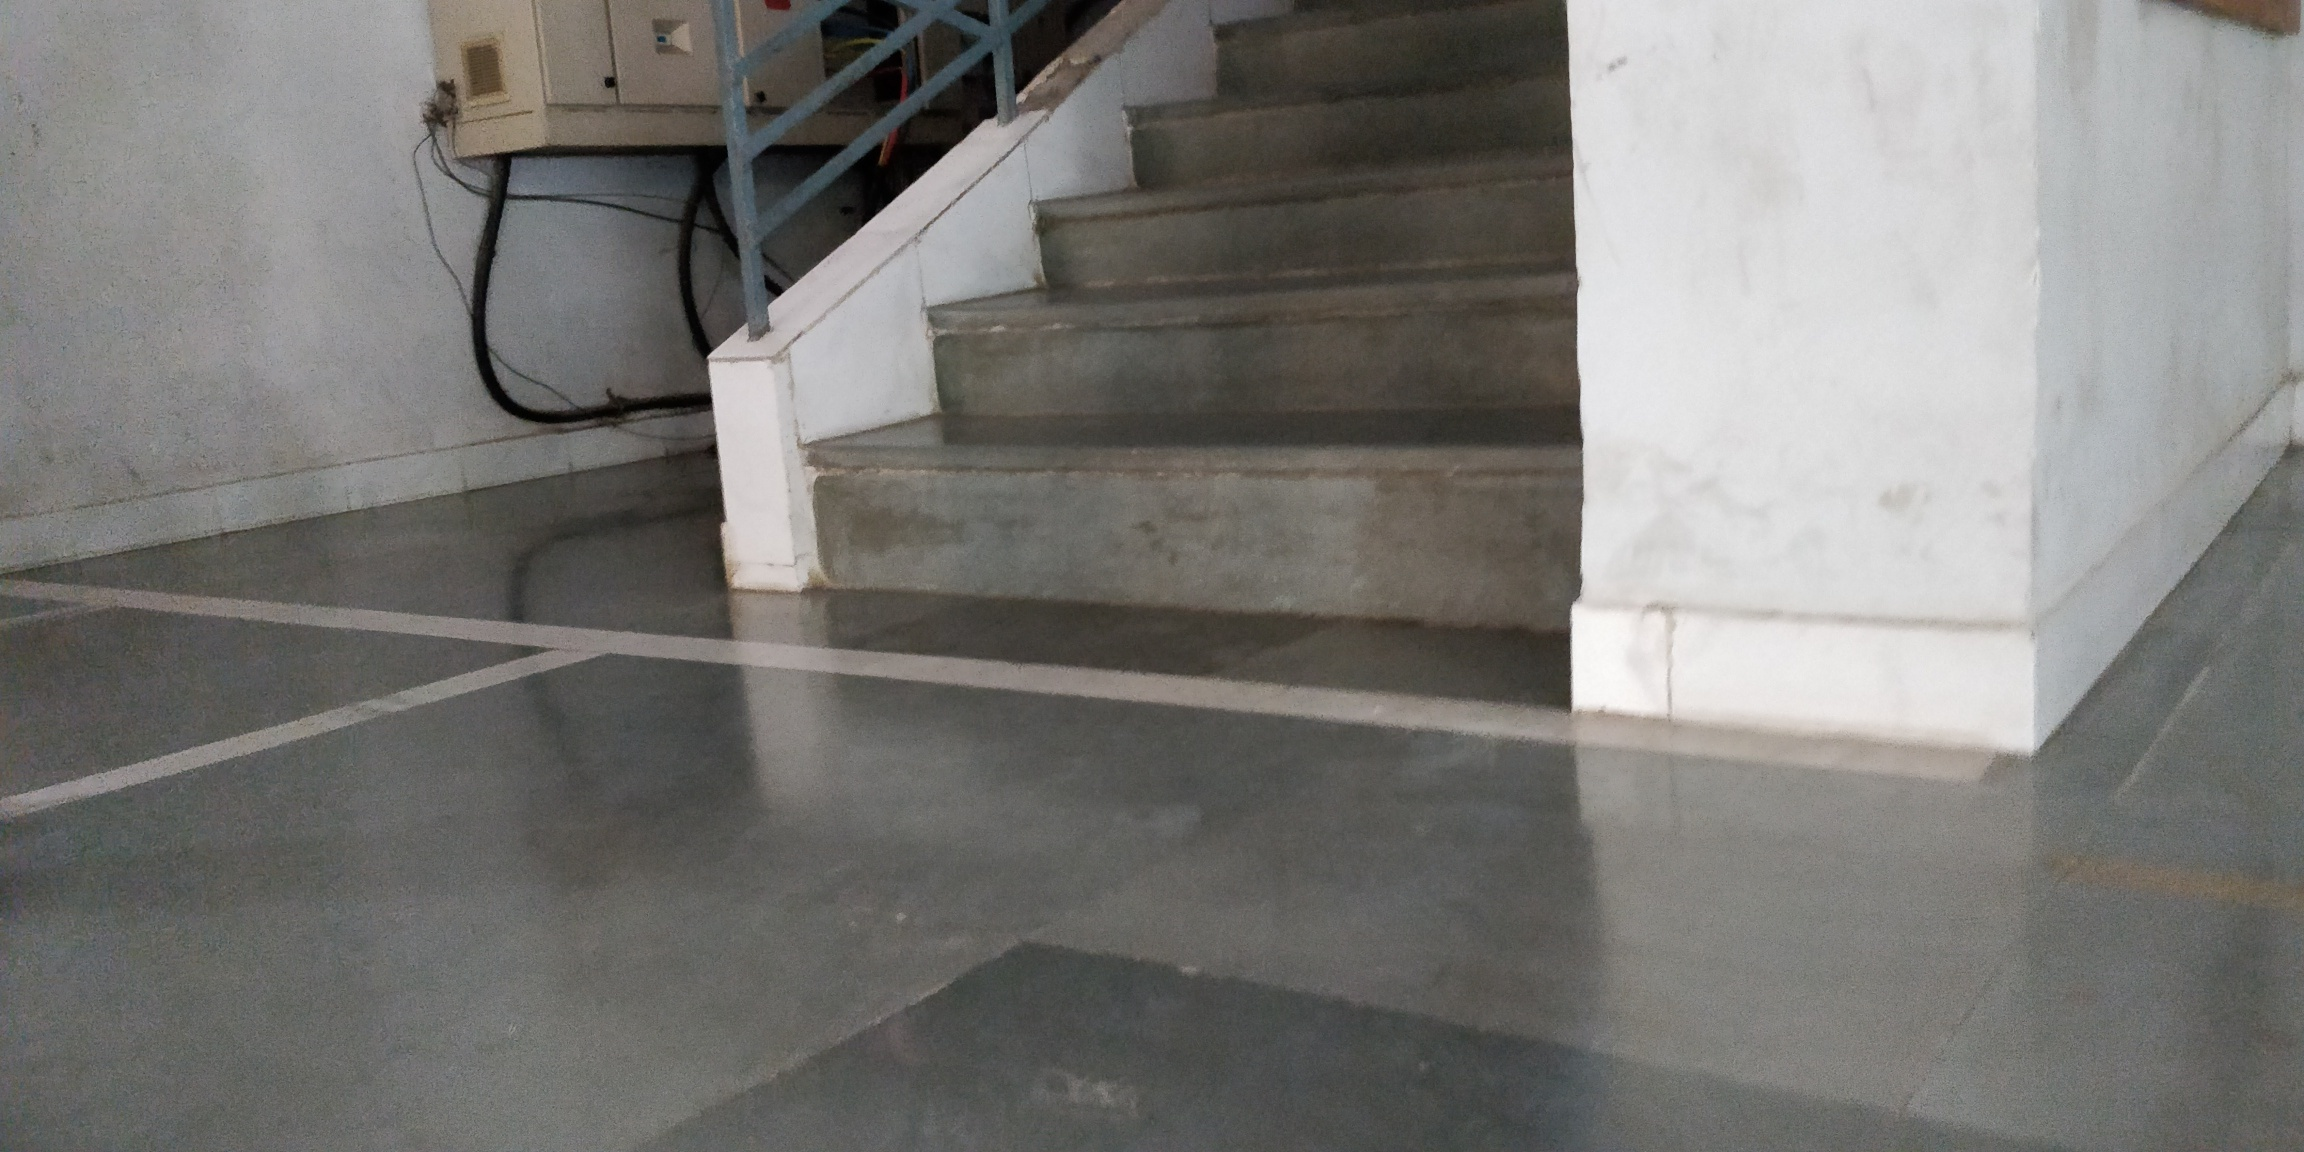stairs_up: (717, 6, 1577, 658)
